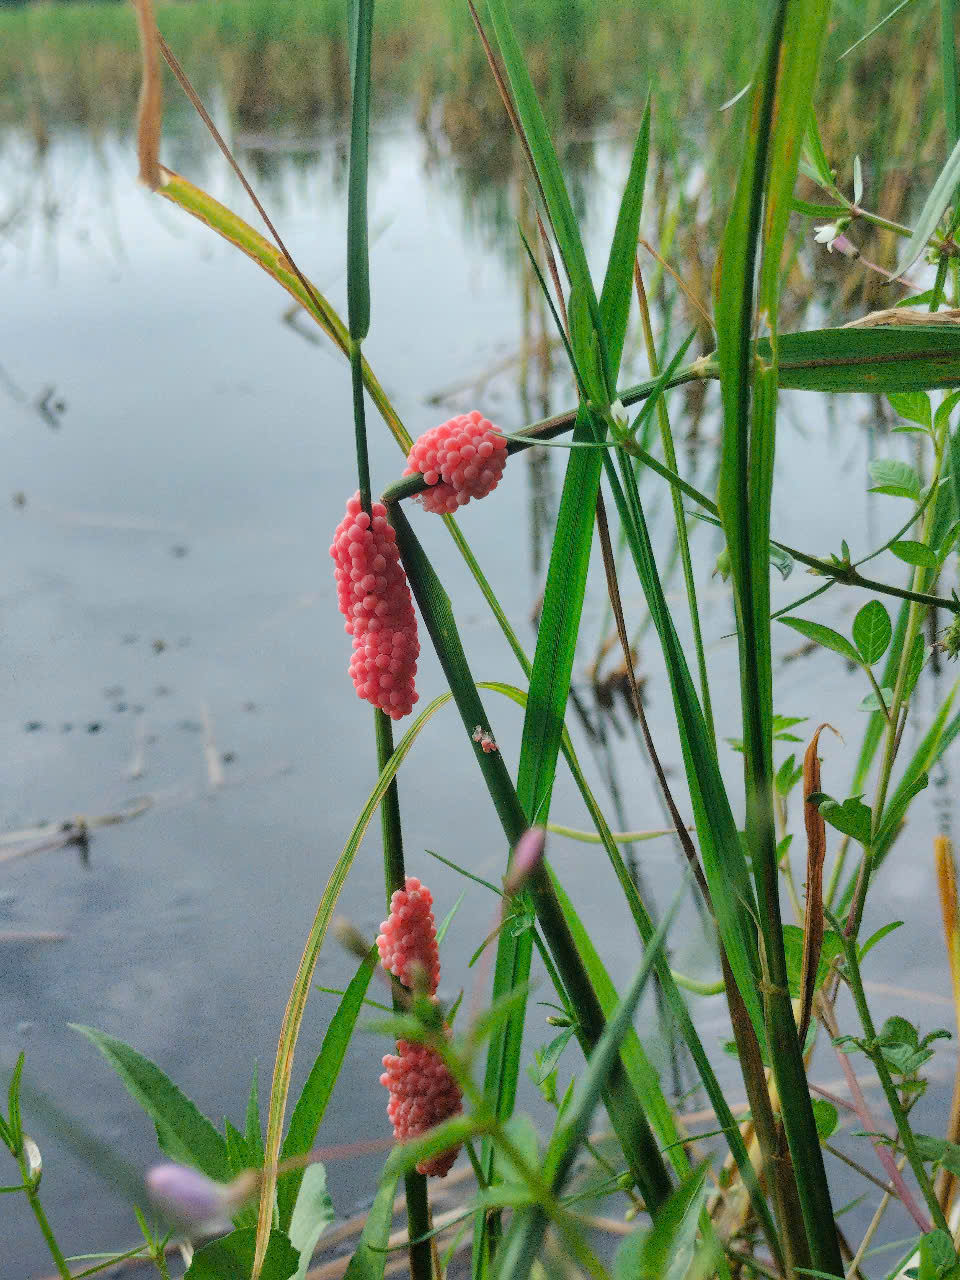trung_oc_buou_vang: (315, 362, 487, 756), (353, 843, 500, 1140)
